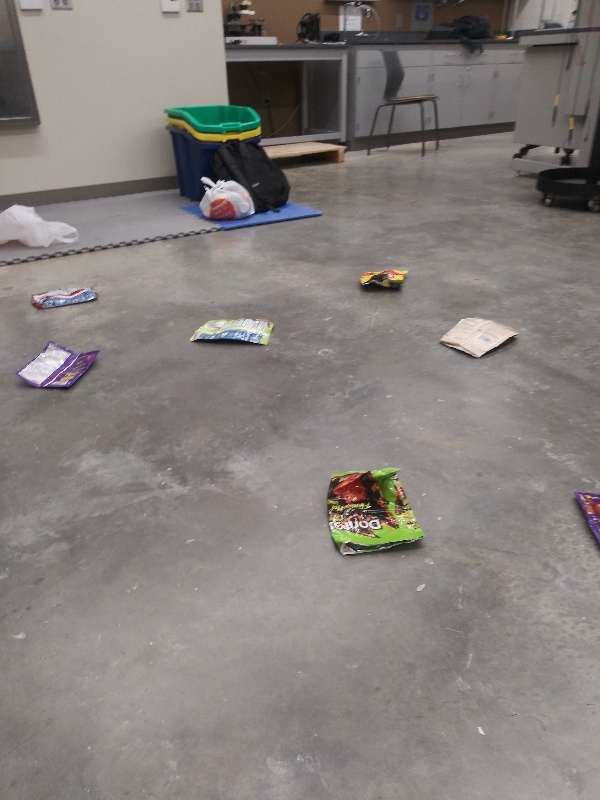bag: (318, 464, 429, 562), (14, 338, 107, 393), (437, 311, 526, 356), (187, 312, 279, 349), (25, 282, 105, 313), (352, 263, 415, 293), (573, 486, 600, 552)
